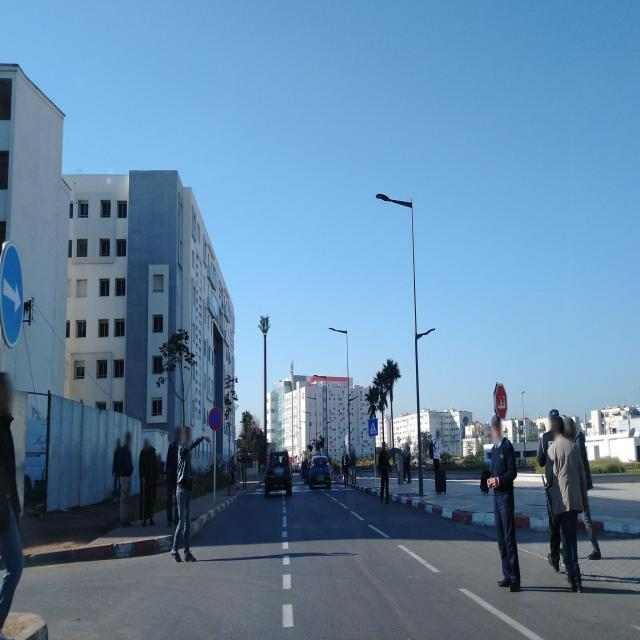forb_stopping: (208, 407, 222, 432)
